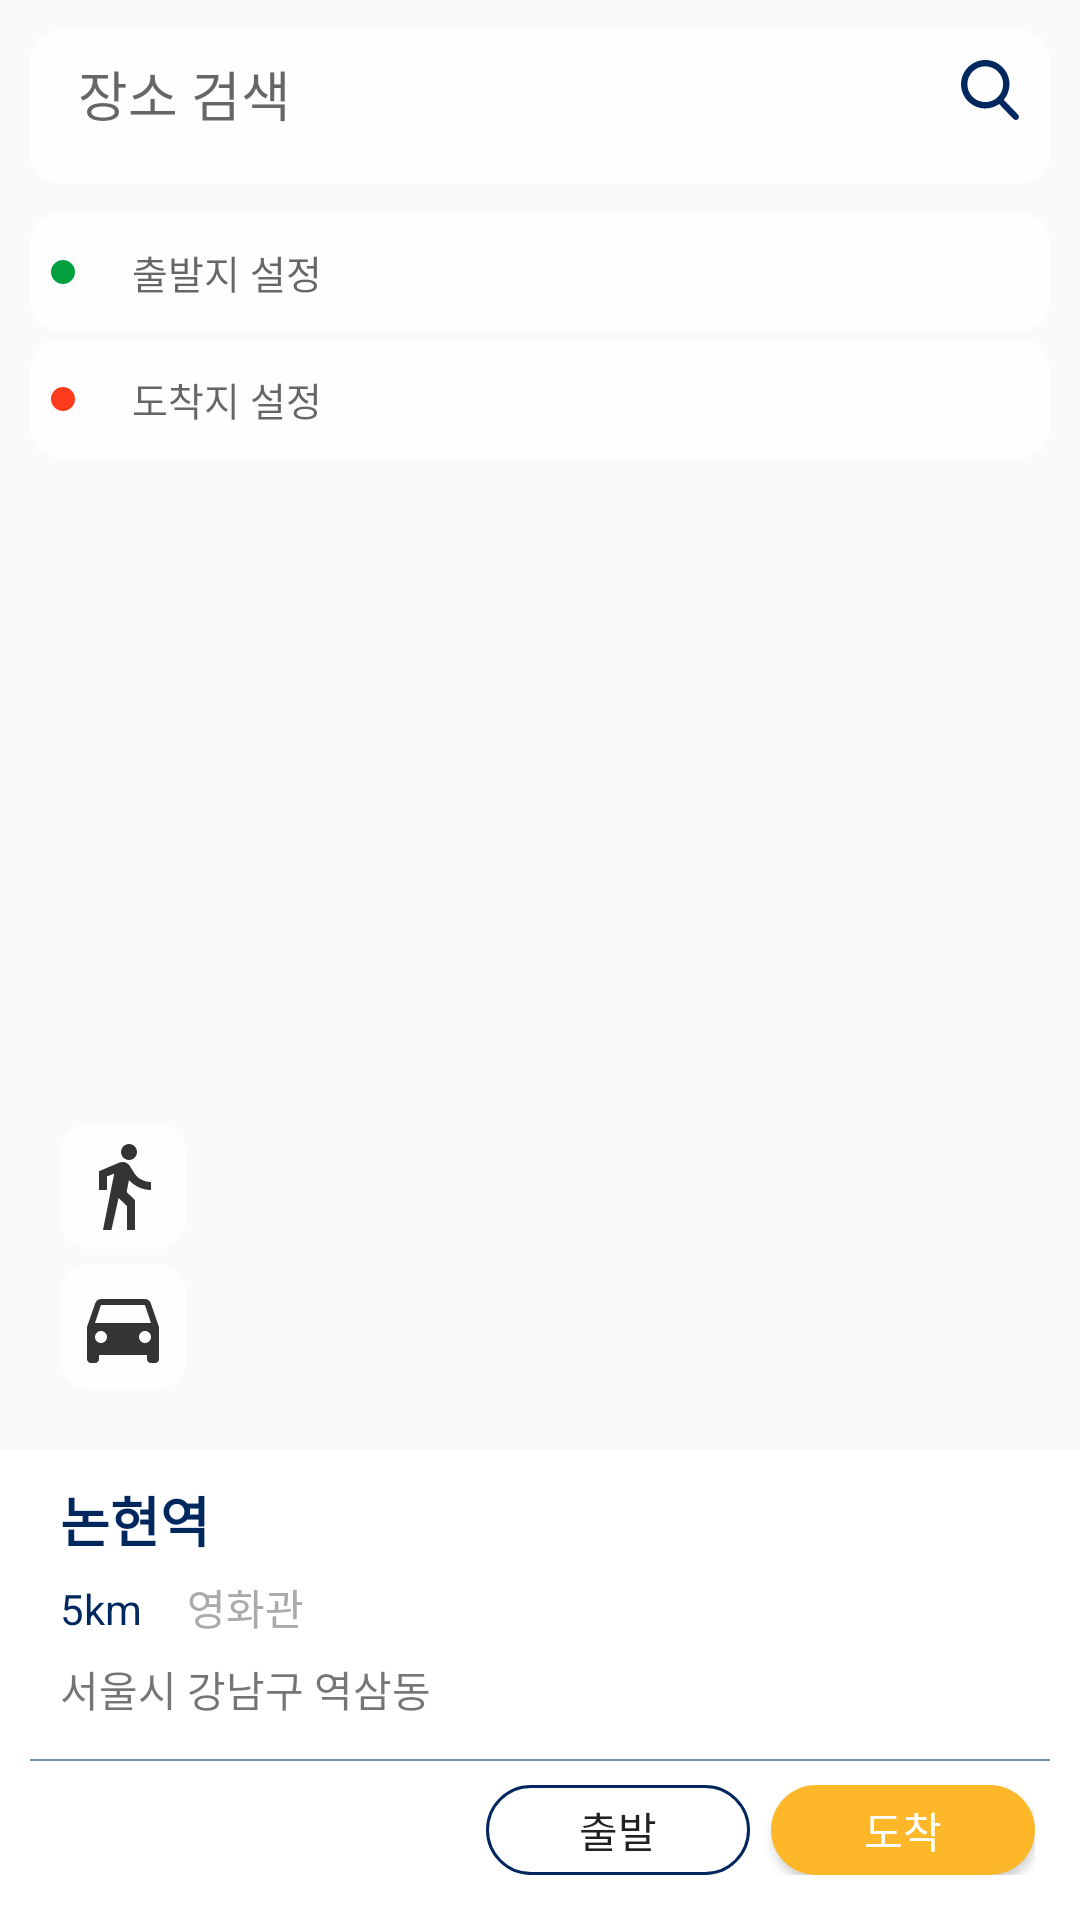

Icons on this 1080px×1920px Android screen, each with its box as BBox(x1, y1, x2, y2):
directions car: BBox(87, 1299, 159, 1363)
directions walk: BBox(99, 1144, 151, 1230)
mapsearch: BBox(961, 60, 1019, 120)
